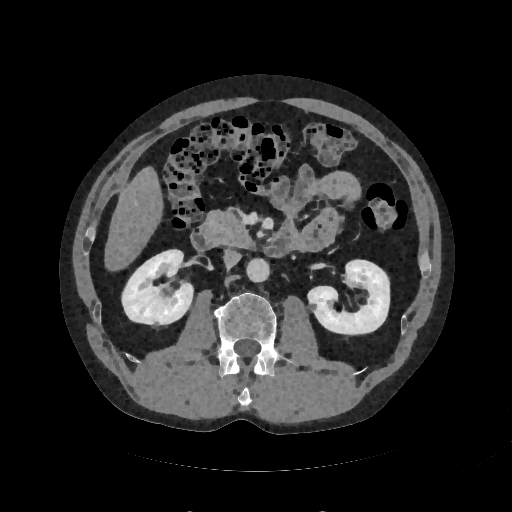Lesion: (306, 303, 318, 312)
